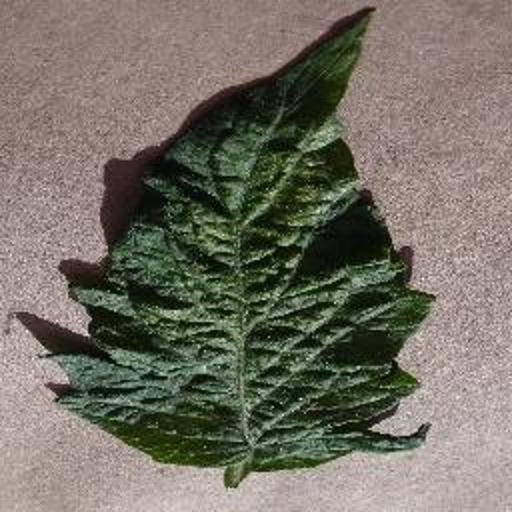Spider Mite: (32, 12, 460, 491)
